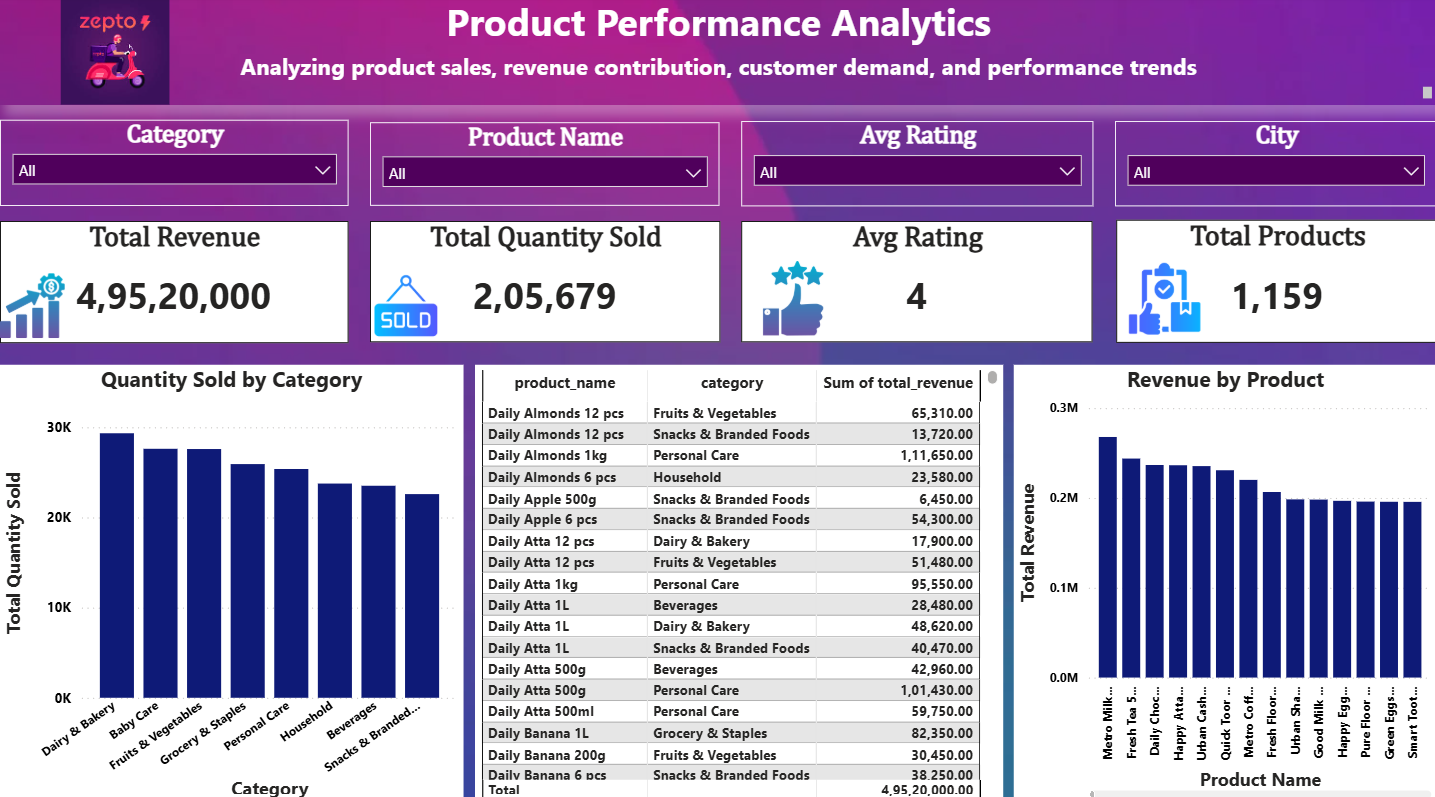

The dashboard page shown, as its layout file describes it:
{"tool":"powerbi","page":{"name":"product performance","canvas":[1280,720],"ordinal":4},"visuals":[{"type":"textbox","title":"Product Performance Analytics","box":[0,0,1280,96.5],"z":0},{"type":"image","box":[50.1,0,104.6,96.8],"z":1000},{"type":"slicer","title":"Category","fields":{"Values":["zepto vw_product_performance.category"]},"box":[0,110.7,310.6,76.7],"z":2000},{"type":"card","title":"Total Revenue","fields":{"Values":["Sum(zepto vw_product_performance.total_revenue)"]},"box":[0,200.3,310.1,108.6],"z":3000},{"type":"slicer","title":"Product Name","fields":{"Values":["zepto vw_product_performance.product_name"]},"box":[329.4,112.2,311.3,74.8],"z":4000},{"type":"slicer","title":"Avg Rating","fields":{"Values":["zepto vw_product_performance.avg_rating"]},"box":[659.9,111,313.7,76],"z":5000},{"type":"slicer","title":"City","fields":{"Values":["zepto vw_order_details.city"]},"box":[992.9,111,287.1,76],"z":6000},{"type":"card","title":"Total Quantity Sold","fields":{"Values":["Sum(zepto vw_product_performance.total_quantity_sold)"]},"box":[329.5,200,311.9,108.2],"z":7000},{"type":"card","title":"Avg Rating","fields":{"Values":["Avg(zepto vw_product_performance.avg_rating)"]},"box":[660.2,200,313.1,108.2],"z":8000},{"type":"card","title":"Total Products","fields":{"Values":["CountNonNull(zepto vw_product_performance.product_name)"]},"box":[993.5,198.7,286.7,109.4],"z":9000},{"type":"clusteredColumnChart","title":"Quantity Sold by Category","fields":{"Category":["zepto vw_product_performance.category"],"Y":["Sum(zepto vw_product_performance.total_quantity_sold)"]},"box":[0,328.2,412.5,392.4],"z":10000},{"type":"columnChart","title":"Revenue by Product","fields":{"Category":["zepto vw_product_performance.product_name"],"Y":["Sum(zepto vw_product_performance.total_revenue)"]},"box":[903,328.2,377.3,392.4],"z":11000},{"type":"tableEx","fields":{"Values":["zepto vw_product_performance.product_name","zepto vw_product_performance.category","Sum(zepto vw_product_performance.total_revenue)"]},"box":[422.6,328.2,470.3,392.4],"z":12000},{"type":"image","box":[0,244,57.9,64.1],"z":13000},{"type":"image","box":[329.5,244,64.1,64.1],"z":14000},{"type":"image","box":[657.7,236.4,96.8,66.7],"z":15000},{"type":"image","box":[1004.8,236.4,64.1,66.7],"z":16000}]}

Visuals, with their boxes in screenshot pixels (x1, y1, x2, y2), scaled from the page's 1280x720 canvas onto the 1435x797 screenshot:
"Product Performance Analytics" textbox: region(0, 0, 1434, 107)
image: region(56, 0, 173, 107)
"Category" slicer: region(0, 123, 348, 207)
"Total Revenue" card: region(0, 222, 348, 342)
"Product Name" slicer: region(369, 124, 718, 207)
"Avg Rating" slicer: region(740, 123, 1091, 207)
"City" slicer: region(1113, 123, 1434, 207)
"Total Quantity Sold" card: region(369, 221, 719, 341)
"Avg Rating" card: region(740, 221, 1091, 341)
"Total Products" card: region(1114, 220, 1434, 341)
"Quantity Sold by Category" clusteredColumnChart: region(0, 363, 462, 796)
"Revenue by Product" columnChart: region(1012, 363, 1434, 796)
tableEx - zepto vw_product_performance.product_name x zepto vw_product_performance.category: region(474, 363, 1001, 796)
image: region(0, 270, 65, 341)
image: region(369, 270, 441, 341)
image: region(737, 262, 846, 336)
image: region(1126, 262, 1198, 336)
